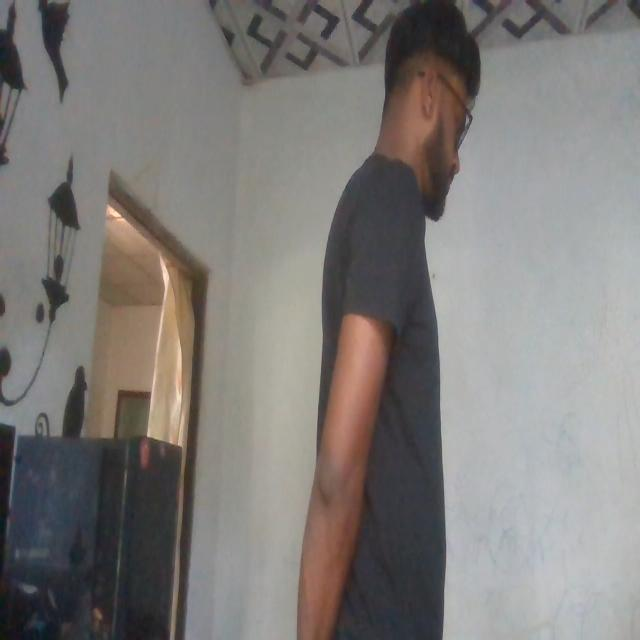Person: (290, 11, 478, 634)
